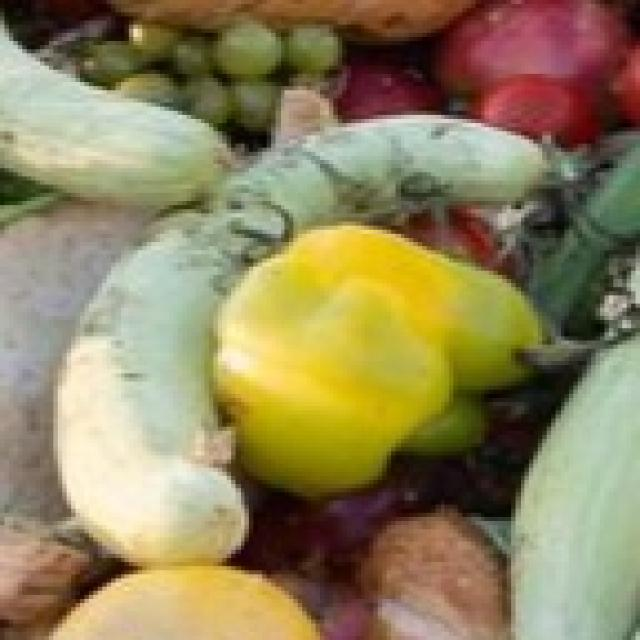food waste: (24, 0, 640, 591)
